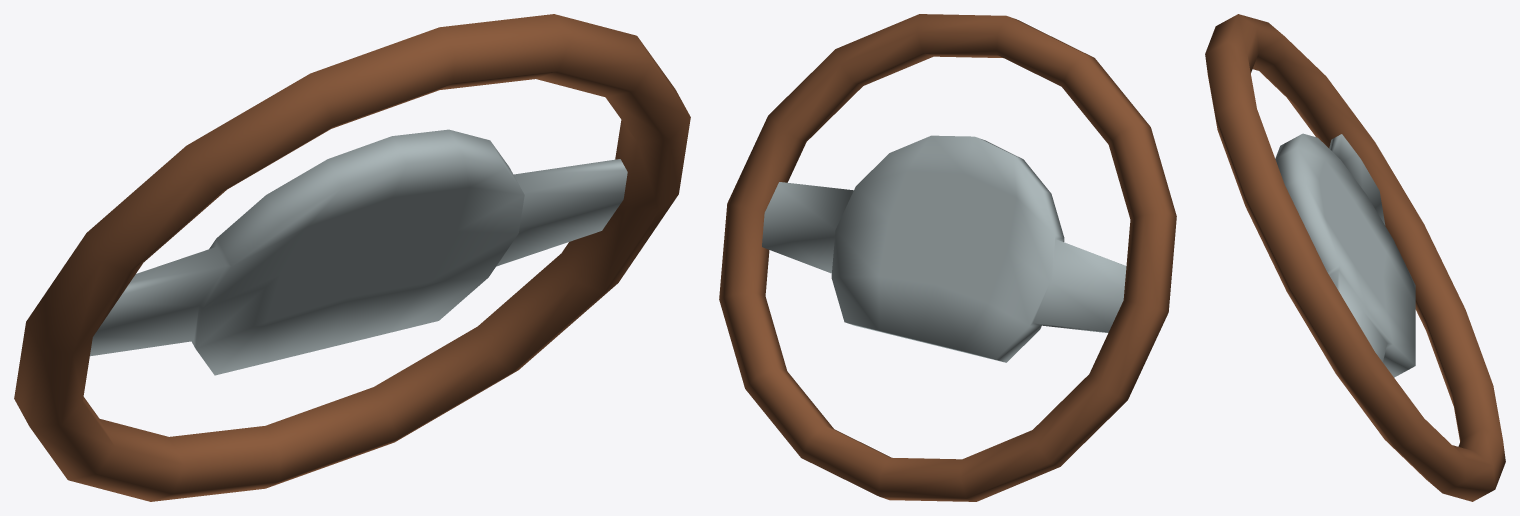
Rendered from SteeringWheels.fbx.
The picture shows the model from 3 angles, left to right: view 1: azimuth 30°, elevation 25°; view 2: azimuth 150°, elevation 25°; view 3: azimuth 270°, elevation 25°; orthographic projection. The views are drawn at different scales.
Parts seen in each view (by area): view 1: SteeringWheels; view 2: SteeringWheels; view 3: SteeringWheels.
Part boxes in pixels (box(x1,y1,x2,y2)): SteeringWheels: box(14, 14, 690, 501); SteeringWheels: box(719, 14, 1176, 501); SteeringWheels: box(1205, 14, 1505, 501).
Size of the model in its own units: 69.98 by 61.77 by 38.93.
Materials: 1 (1 with a texture image).
